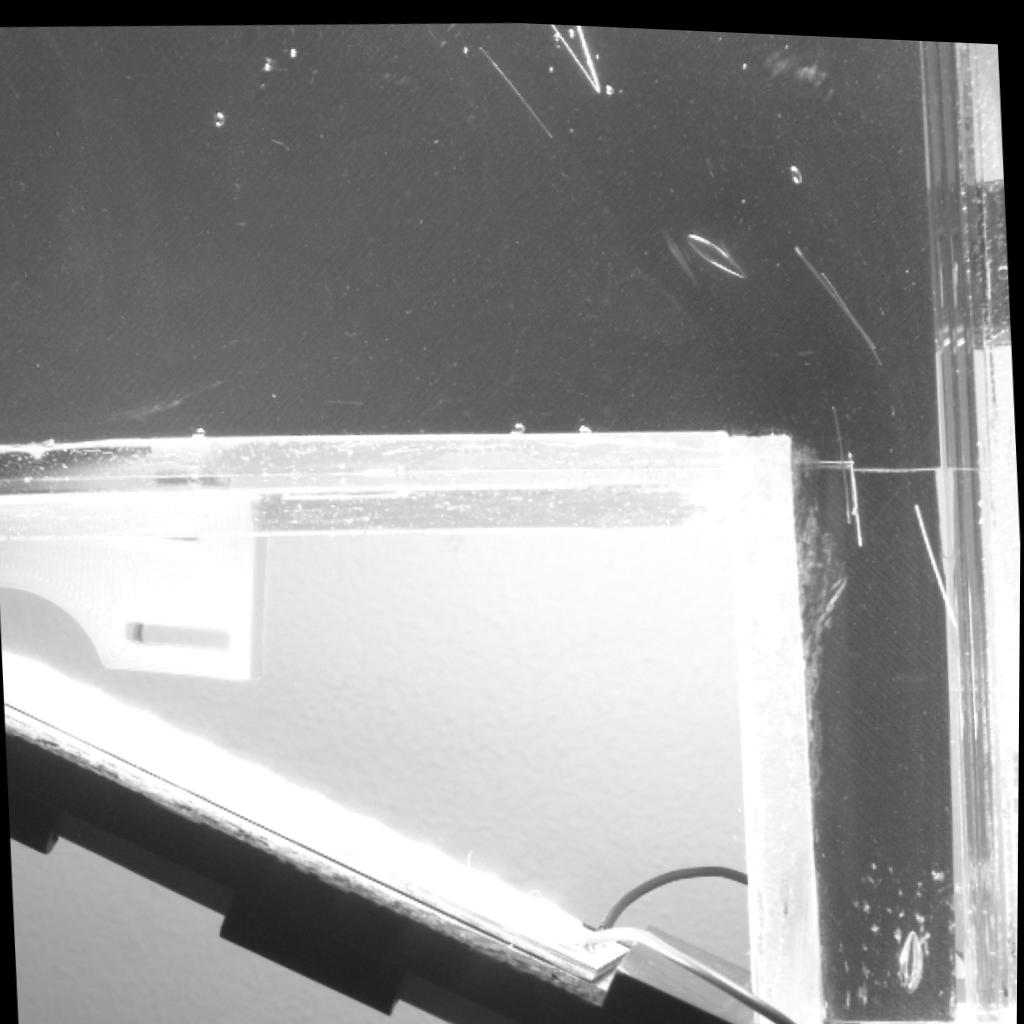Fiber: (796, 234, 881, 345), (912, 492, 963, 634), (479, 44, 557, 135), (821, 261, 886, 364), (550, 20, 601, 92), (831, 394, 854, 520), (574, 20, 604, 92), (848, 438, 864, 540)
